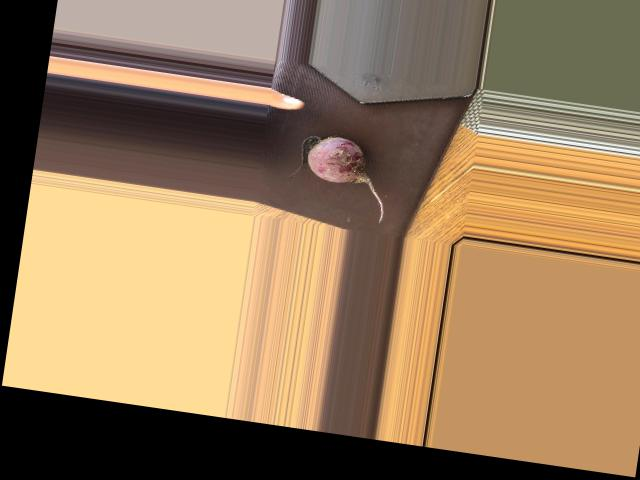beet: (285, 131, 394, 222)
